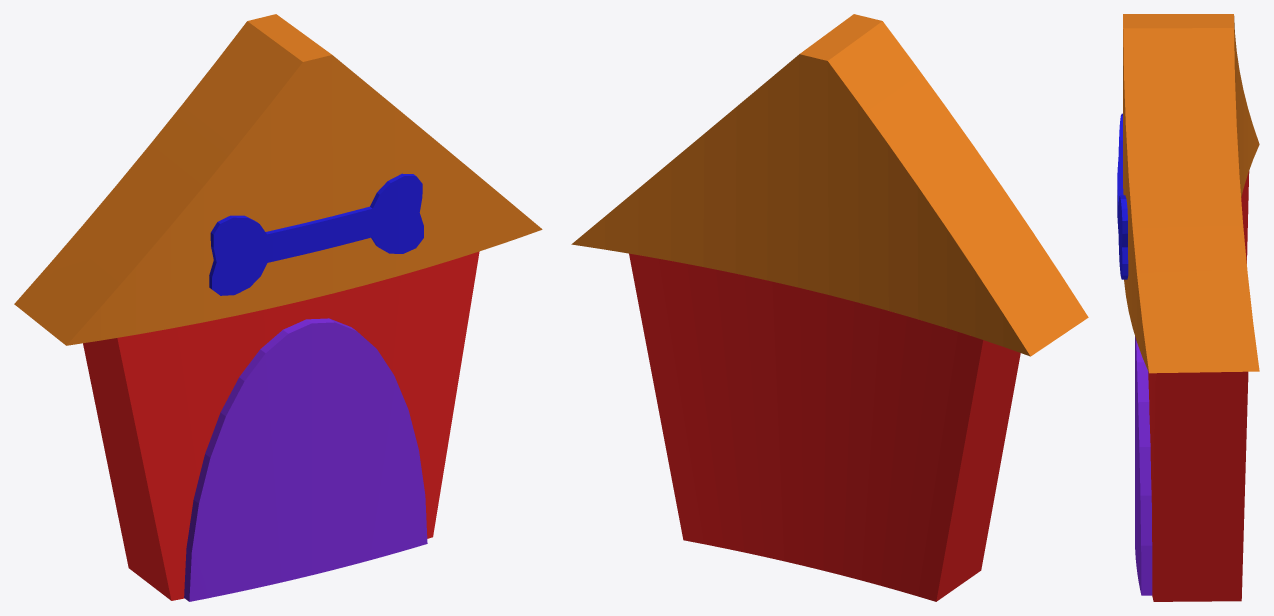
File: DogHouse_Outer.fbx
The picture shows the model from 3 angles, left to right: view 1: azimuth 30°, elevation 25°; view 2: azimuth 150°, elevation 25°; view 3: azimuth 270°, elevation 25°; orthographic projection. The views are drawn at different scales.
Visible parts, largest first — view 1: DogHouse_Outer; view 2: DogHouse_Outer; view 3: DogHouse_Outer.
Part boxes in pixels (x1,y1,x2,y2): DogHouse_Outer: (14,14,542,601); DogHouse_Outer: (571,14,1088,601); DogHouse_Outer: (1117,14,1259,601).
Bounding box in the file's own units: 32 × 33.49 × 8.34.
